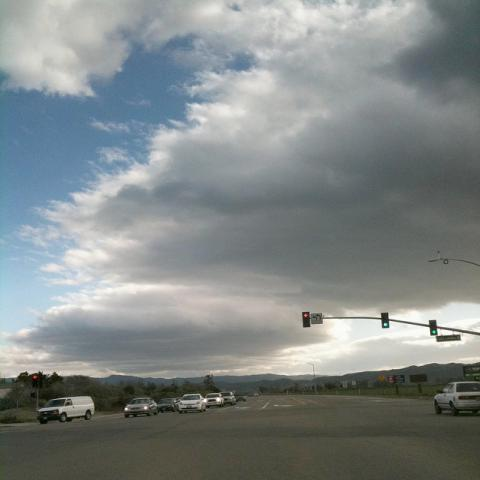car: (432, 379, 479, 414), (124, 397, 159, 418), (179, 394, 207, 413), (157, 398, 179, 413), (205, 394, 224, 408), (219, 392, 236, 405), (235, 392, 247, 402), (254, 393, 259, 397)
truck: (36, 395, 95, 425)
